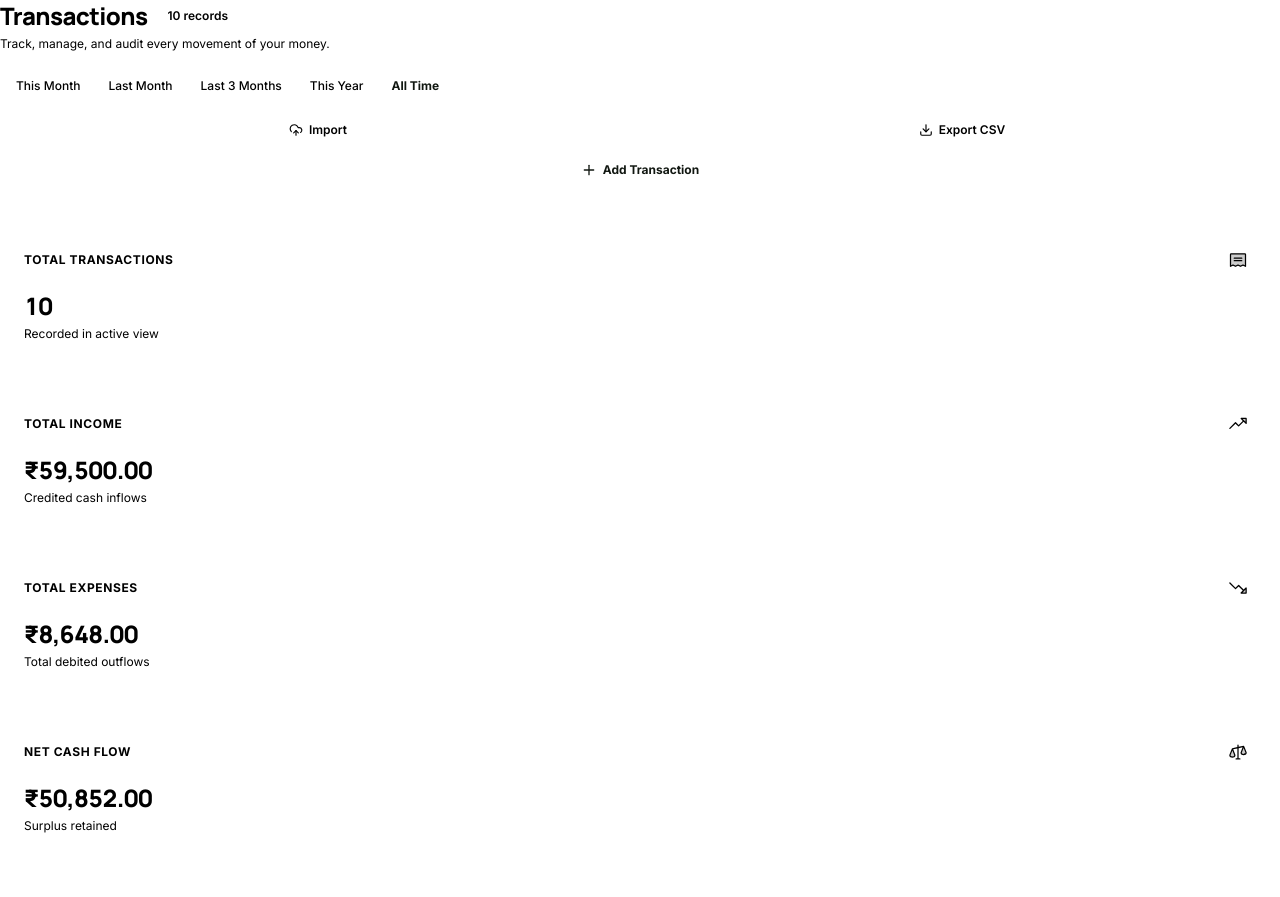
Test case: SPENDX Transactions Page & Ledger Telemetry › opens Add Transaction dialog when Add Transaction button is clicked
The width and height of the screenshot is (1280, 897).
Click the button "Add Transaction" at (640, 170), box [0, 154, 1279, 186]
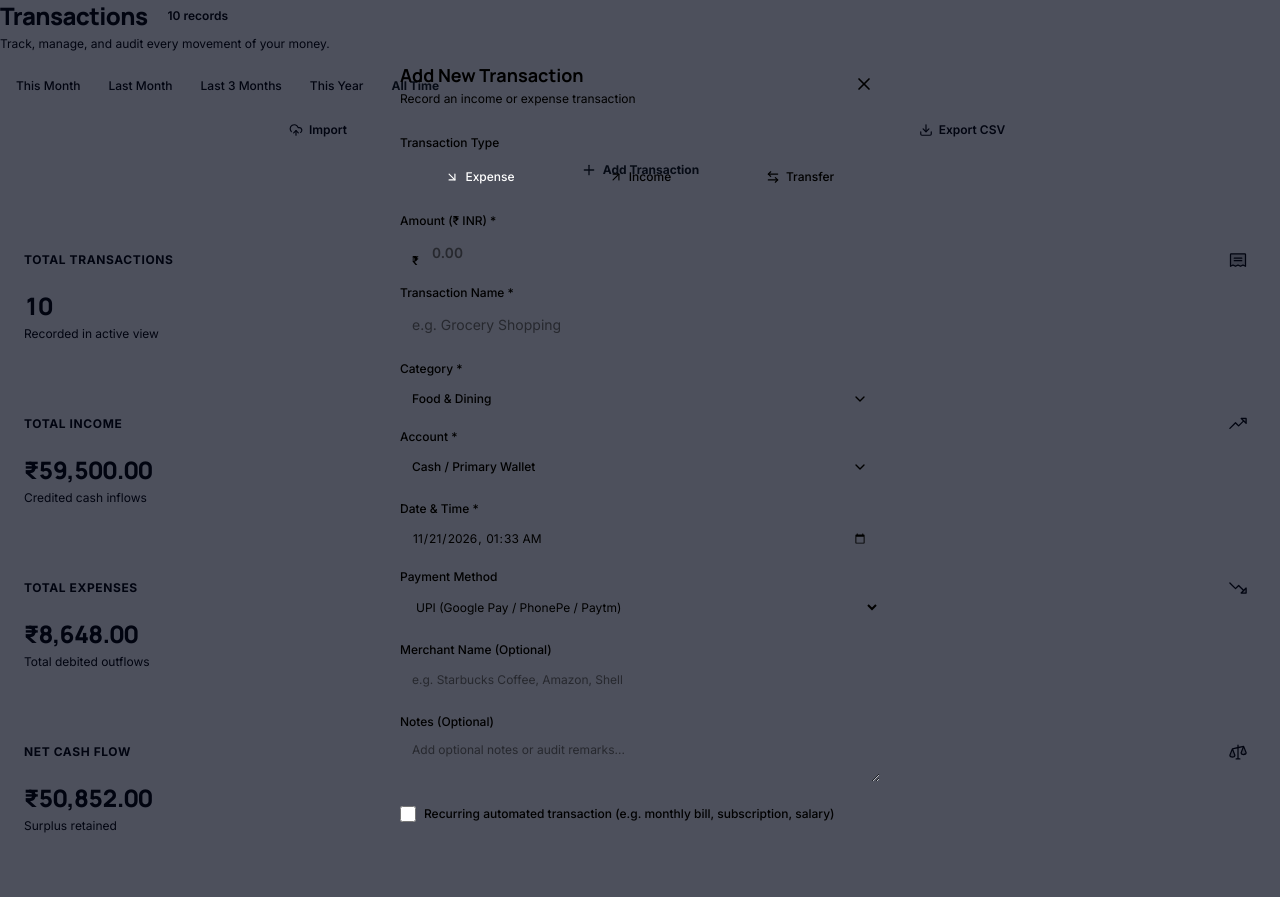
expect the heading "Add New Transaction" is shown: met, box [400, 63, 584, 87]
expect the text "Transaction Type" is shown: met, box [400, 135, 499, 150]
expect the field with placeholder "e.g. Grocery Shopping" is shown: met, box [400, 305, 880, 345]
